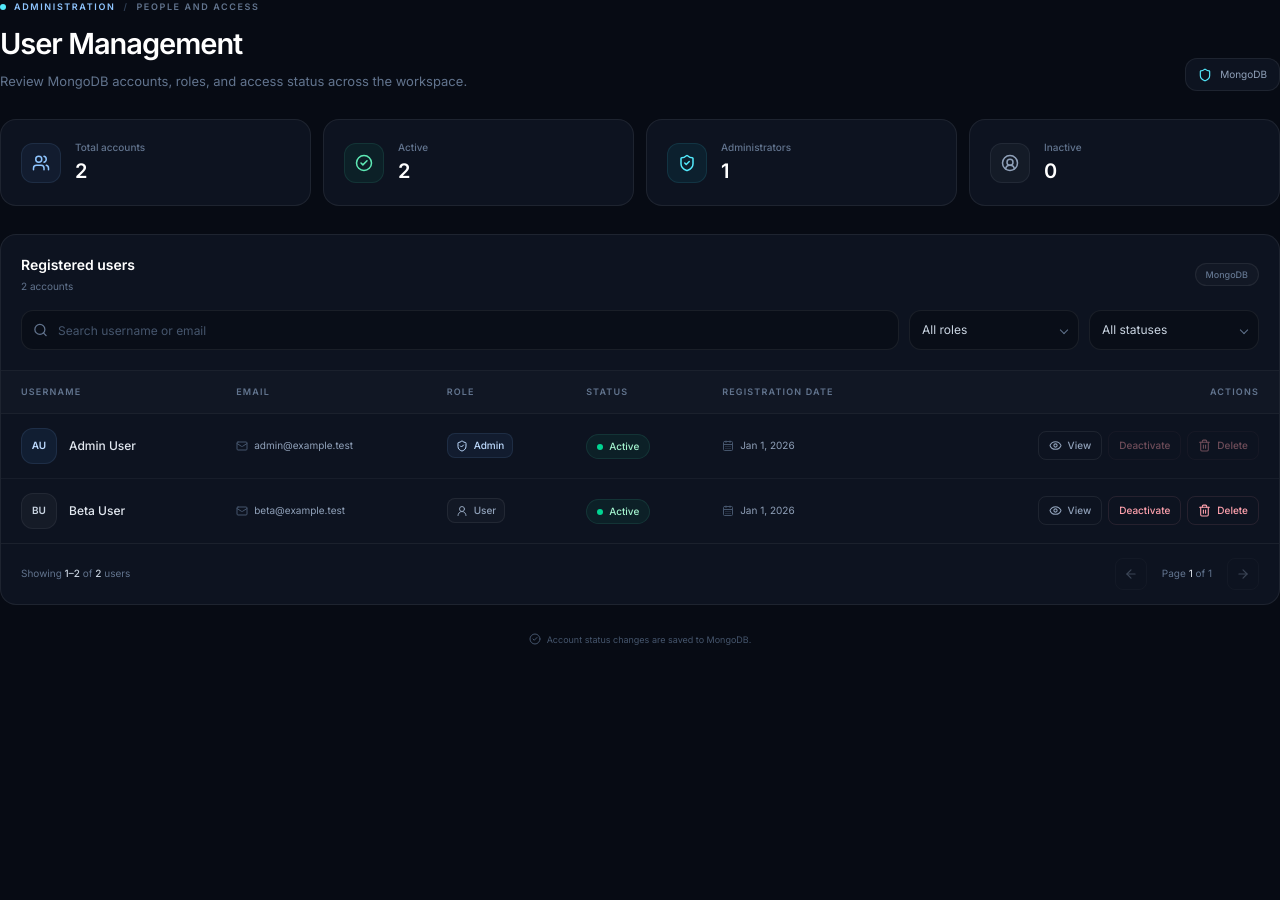
Scenario: admin and shared user pages › requires confirmation to delete an account and updates account counts
Check: the text "Beta User" is shown, box [69, 502, 125, 518]
Click the button with aria-label "Delete Beta User". click: click(1223, 510)
box: [1187, 496, 1259, 525]
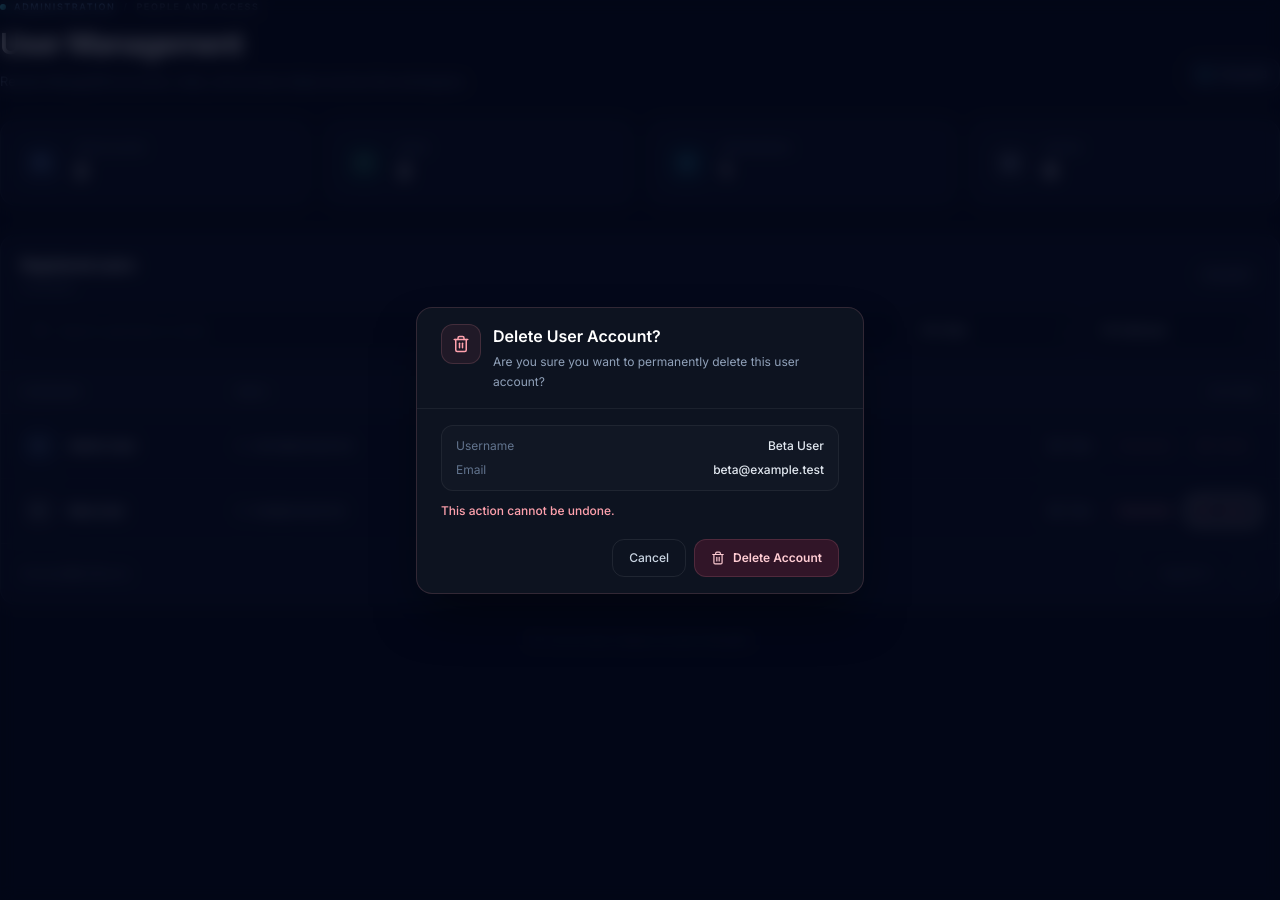
Check: the text "beta@example.test" is shown, box [713, 462, 824, 478]
Click the button "Cancel". click: click(649, 558)
box: [612, 538, 686, 576]
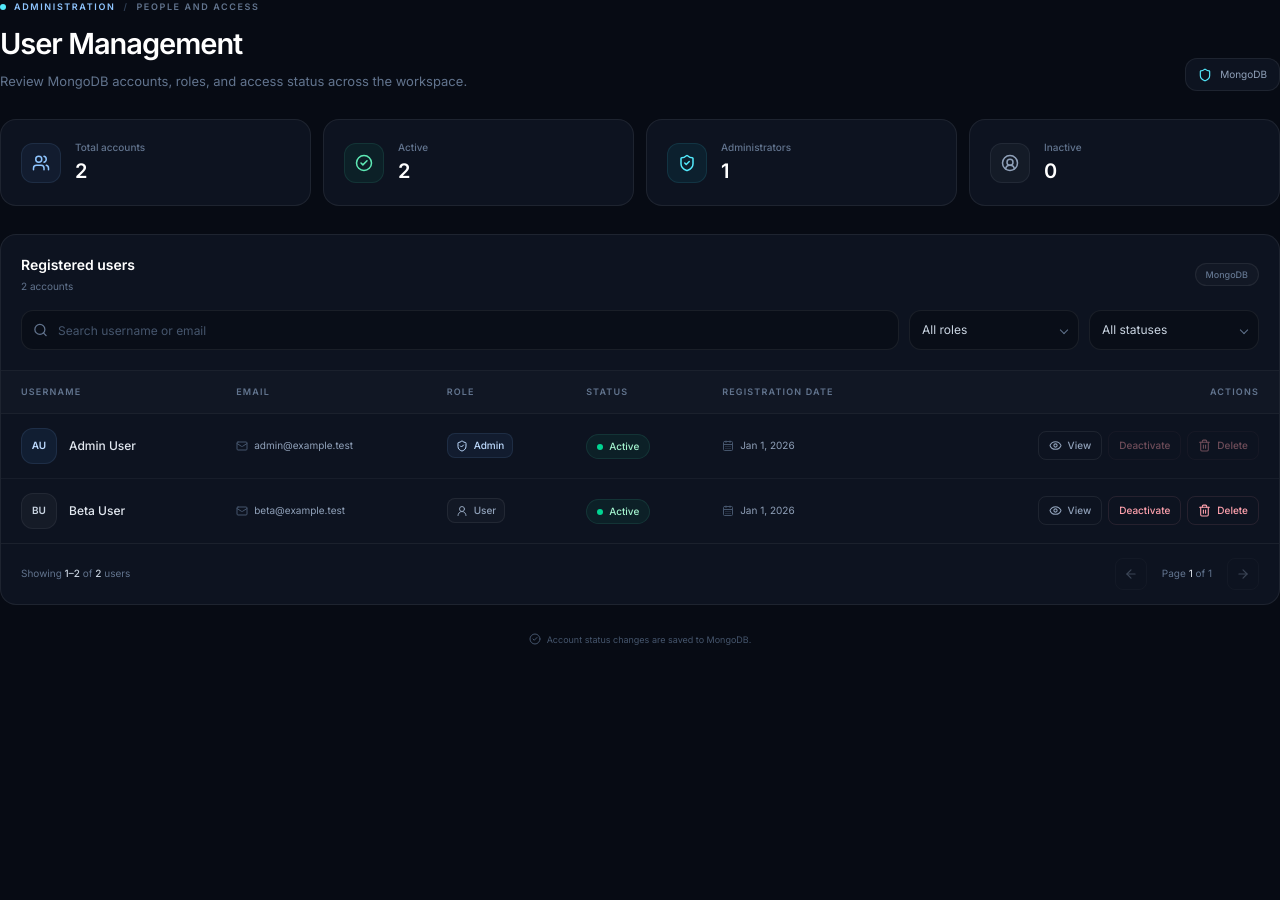
Check: the text "Beta User" is shown, box [69, 502, 125, 518]
Click the button with aria-label "Delete Beta User". click: click(1223, 510)
box: [1187, 496, 1259, 525]
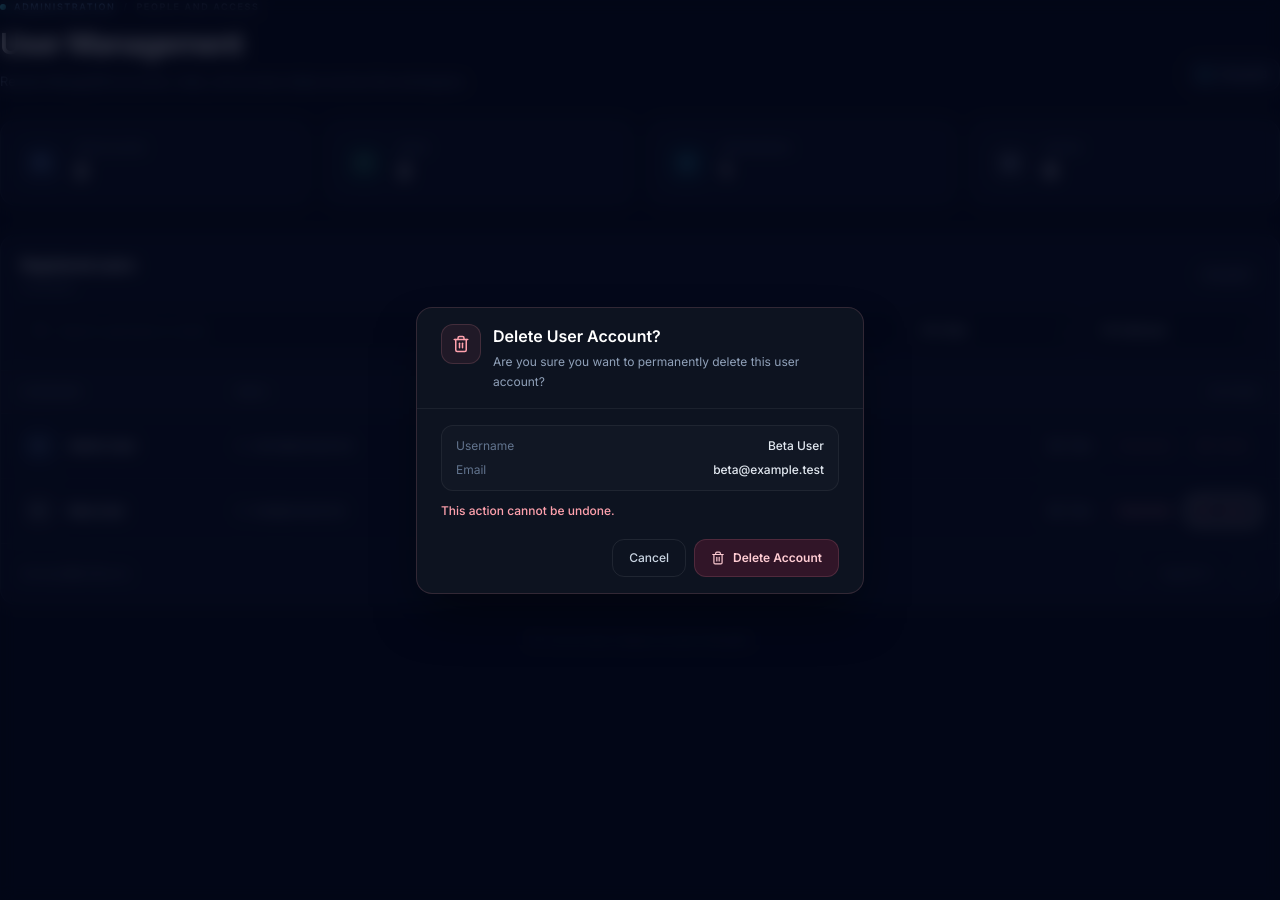
Click the button "Delete Account". click: click(766, 558)
box: [694, 538, 839, 576]
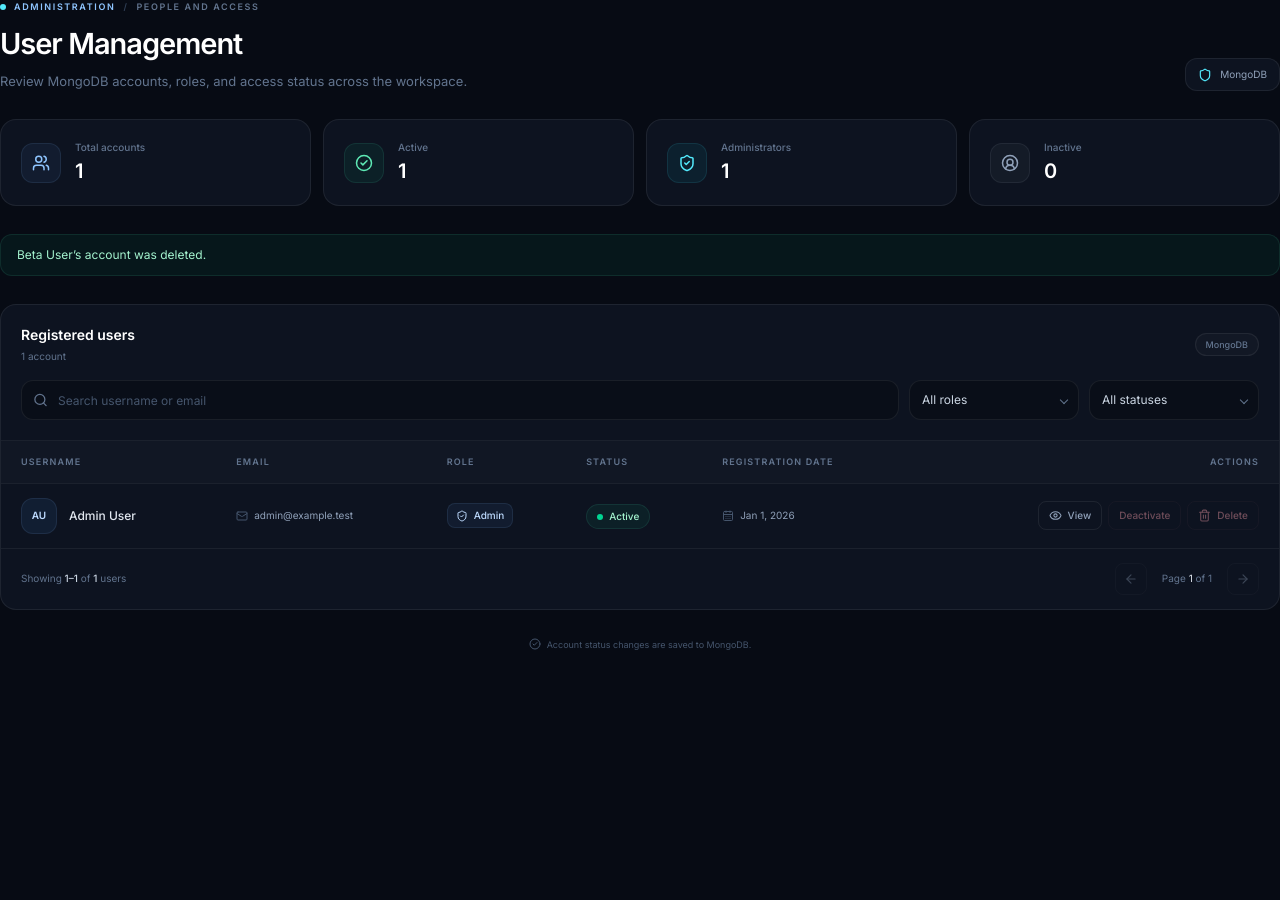
Check: the message shows "account was deleted", box [17, 247, 206, 262]
